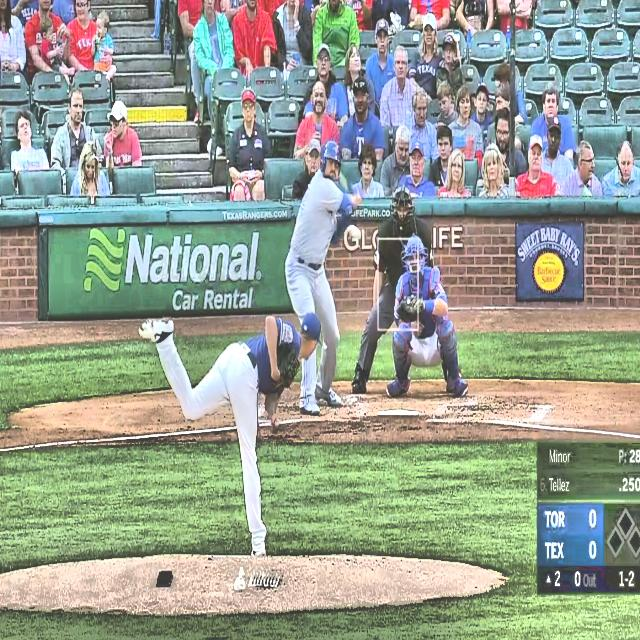baseball: (347, 222, 361, 240)
